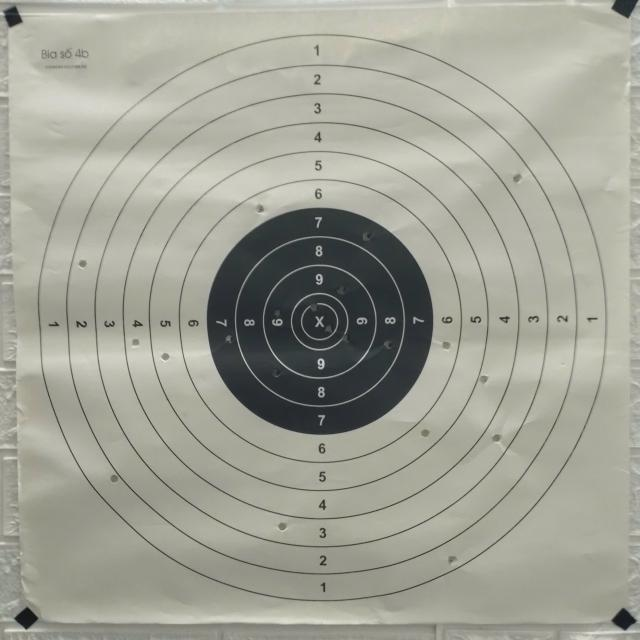bullet: (276, 520, 288, 532), (492, 432, 504, 444), (512, 172, 524, 184), (420, 428, 428, 440), (160, 352, 172, 360), (108, 476, 120, 484), (444, 340, 452, 352), (336, 284, 344, 296), (272, 368, 280, 379), (324, 324, 332, 334), (480, 376, 488, 384), (448, 556, 456, 564), (256, 204, 264, 212), (224, 336, 232, 344), (308, 304, 316, 312), (340, 336, 348, 344), (384, 340, 392, 348), (132, 340, 140, 348), (80, 260, 88, 268), (364, 232, 372, 239), (276, 308, 280, 316)
target: (9, 12, 624, 624)
